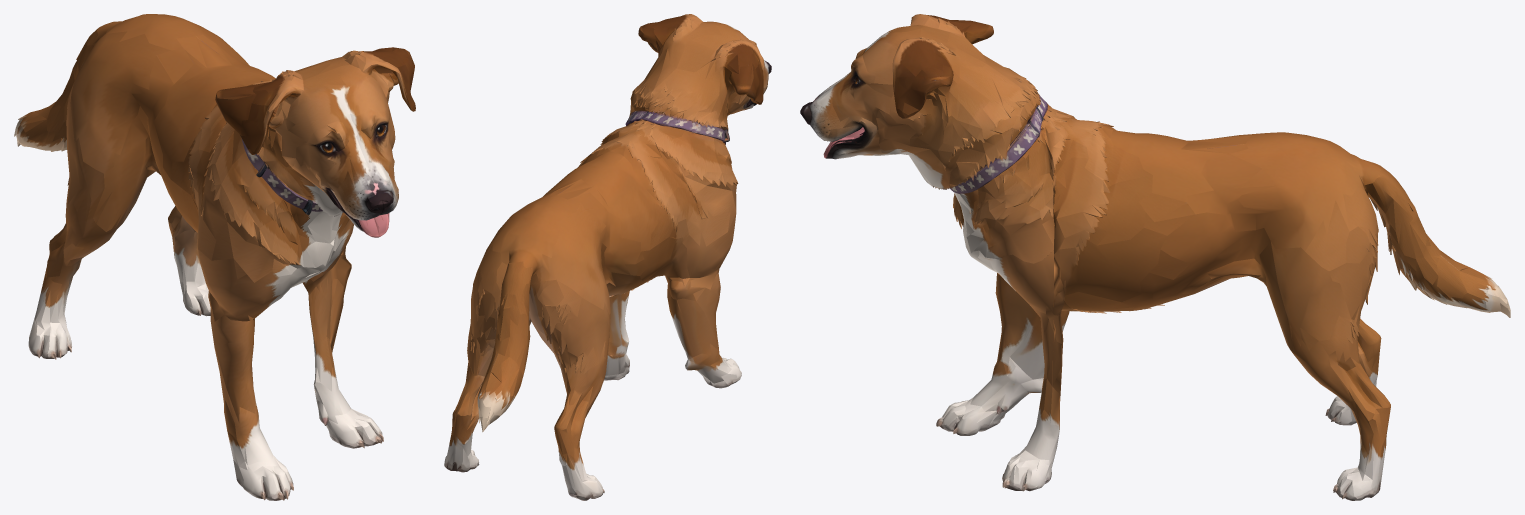
The model's file is nala_mesh.glb.
3 renders of one model, left to right at view 1: azimuth 30°, elevation 25°; view 2: azimuth 150°, elevation 25°; view 3: azimuth 270°, elevation 25°, orthographic. The views are drawn at different scales.
Visible parts, largest first — view 1: geometry_0; view 2: geometry_0; view 3: geometry_0.
Boxes of the visible parts, x1=… form: geometry_0: x1=14, y1=14, x2=415, y2=500; geometry_0: x1=444, y1=14, x2=771, y2=500; geometry_0: x1=800, y1=14, x2=1510, y2=500.
Bounding box in the file's own units: 1.27 × 2.61 × 3.98.
1 material, 1 textured.
